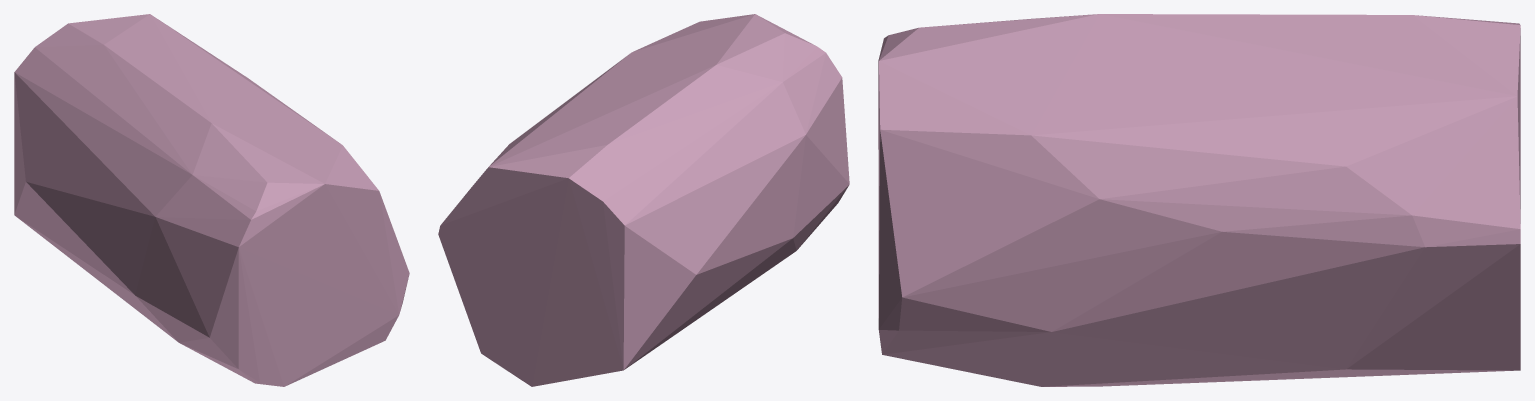
The model's file is container_jar_glass_silver_a01.glb.
3 views of the same model, side by side, from view 1: azimuth 30°, elevation 25°; view 2: azimuth 150°, elevation 25°; view 3: azimuth 270°, elevation 25° (orthographic). The views are drawn at different scales.
Visible parts, largest first — view 1: geometry_0; view 2: geometry_0; view 3: geometry_0.
Part boxes in pixels (x1,y1,x2,y2): geometry_0: (14, 14, 409, 386); geometry_0: (438, 14, 849, 386); geometry_0: (878, 14, 1520, 386).
Size of the model in its own units: 0.2767 by 0.2679 by 0.48.
